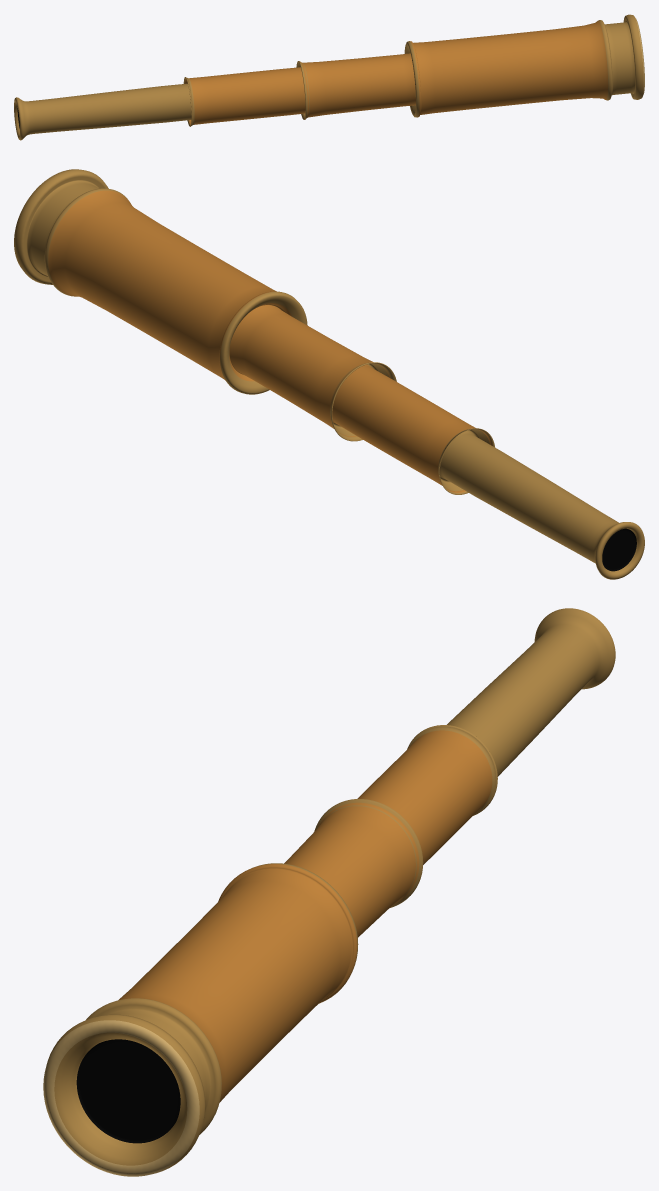
The model's file is uploads_files_2976745_andor_spyglass.fbx.
The picture shows the model from 3 angles, top to bottom: view 1: azimuth 30°, elevation 25°; view 2: azimuth 150°, elevation 25°; view 3: azimuth 270°, elevation 25°; orthographic projection. The views are drawn at different scales.
Parts seen in each view (by area): view 1: Cylinder; view 2: Cylinder; view 3: Cylinder.
Boxes of the visible parts, <box> form: Cylinder: <box>14,14,644,140</box>; Cylinder: <box>14,169,644,579</box>; Cylinder: <box>43,608,615,1176</box>.
Bounding box in the file's own units: 296 × 43.81 × 139.
